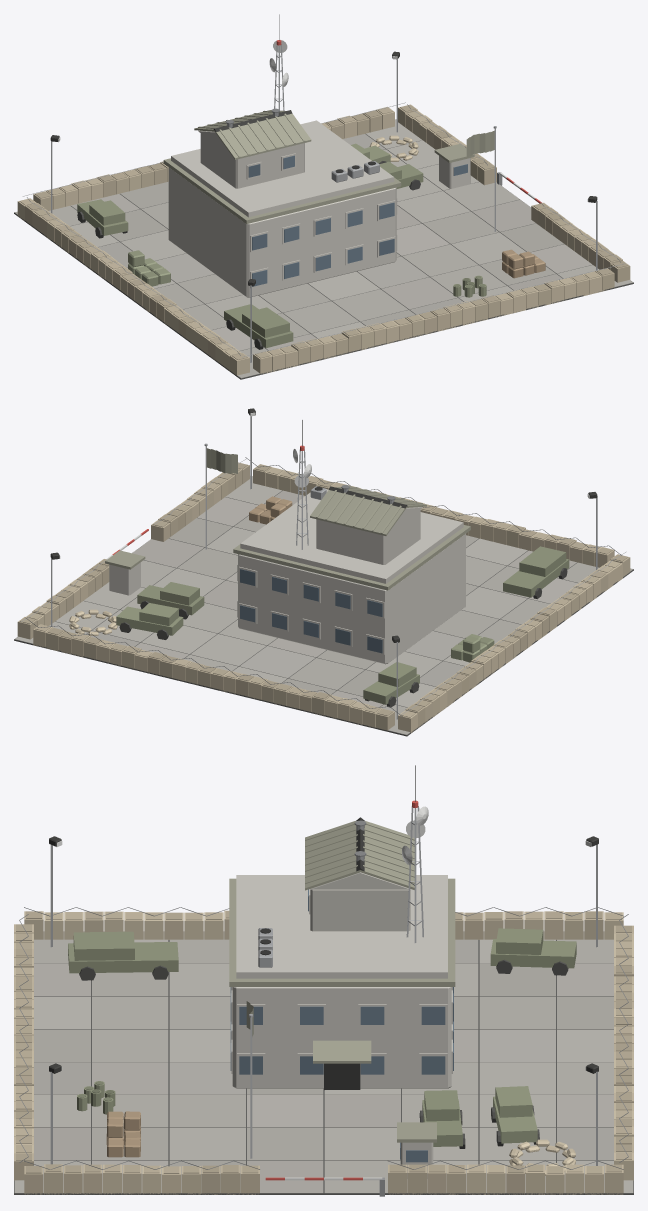
The model's file is b_decoy.glb.
3 renders of one model, top to bottom at view 1: azimuth 30°, elevation 25°; view 2: azimuth 150°, elevation 25°; view 3: azimuth 270°, elevation 25°, orthographic. The views are drawn at different scales.
Visible parts, largest first — view 1: hull; view 2: hull; view 3: hull.
Part boxes in pixels (x1,y1,x2,y2): hull: (14,14,633,379); hull: (14,408,633,736); hull: (14,765,633,1196).
Size of the model in its own units: 34.2 by 17.6 by 34.
